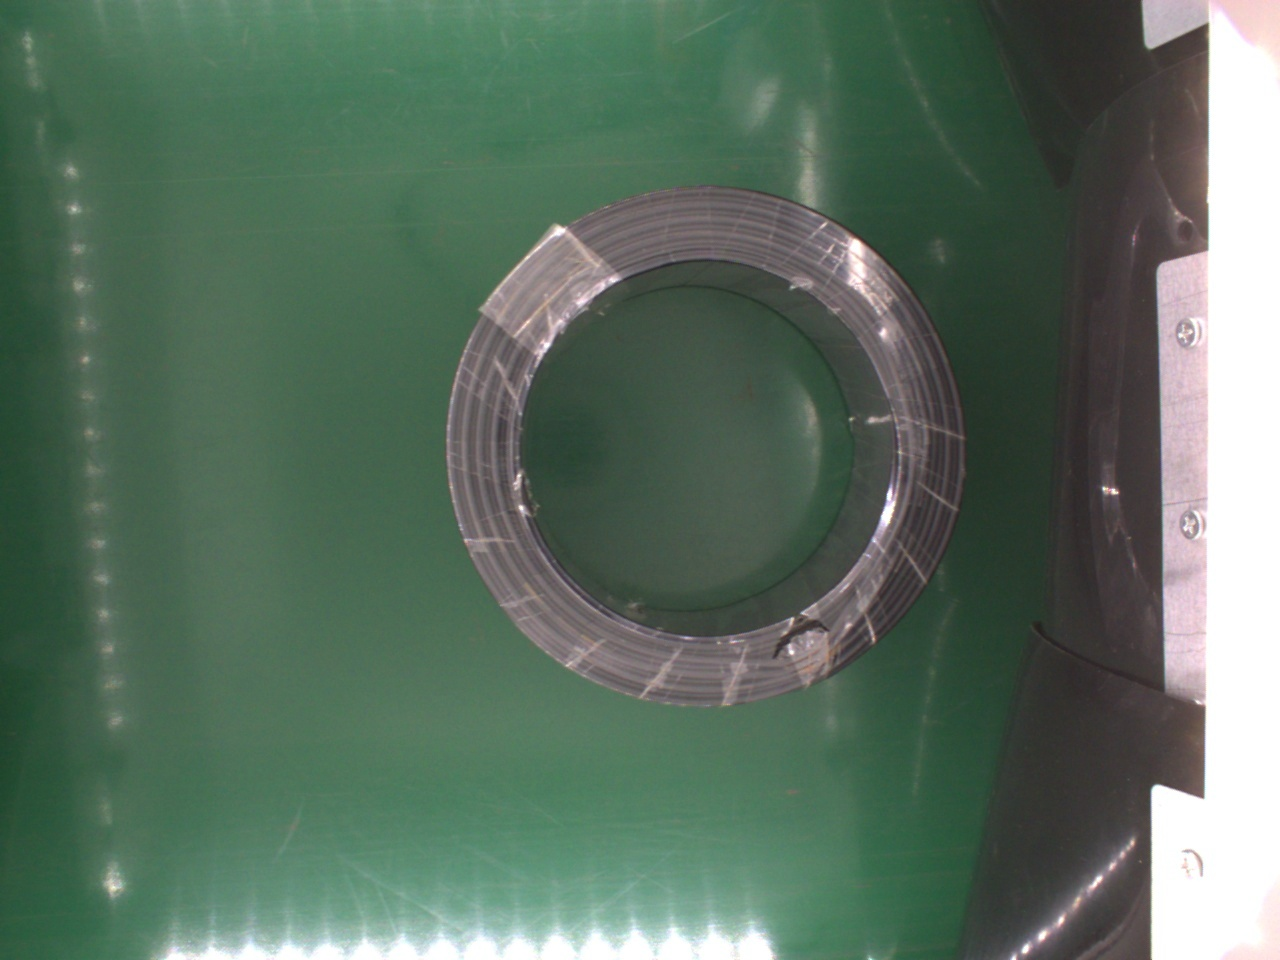black: (444, 187, 963, 706)
